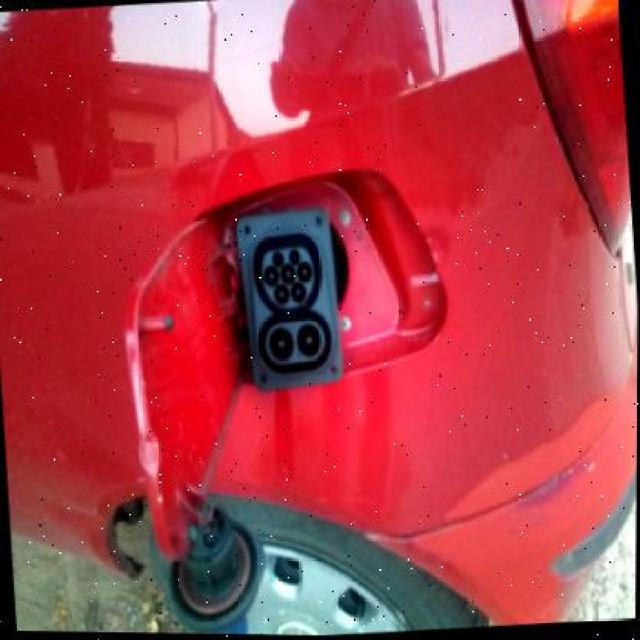CCS2: (230, 202, 348, 396)
